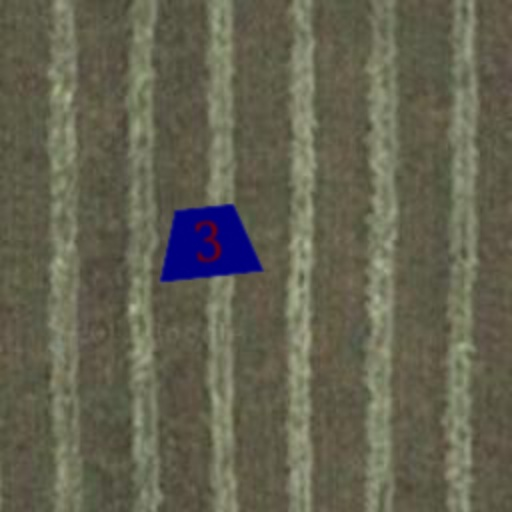trapezoid: (148, 182, 268, 302)
